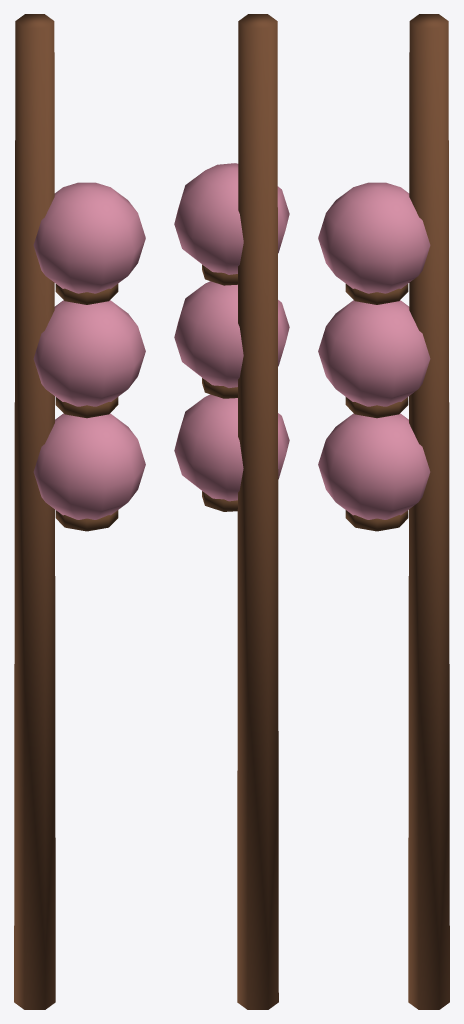
Rendered from lanterns.glb.
The picture shows the model from 3 angles, left to right: view 1: azimuth 90°, elevation 25°; view 2: azimuth 210°, elevation 25°; view 3: azimuth 270°, elevation 25°; orthographic projection.
Parts seen in each view (by area): view 1: lanterns, lanterns_glow; view 2: lanterns, lanterns_glow; view 3: lanterns, lanterns_glow.
Boxes of the visible parts, bbox=[...] form: lanterns: bbox=[14, 14, 118, 1009]; lanterns_glow: bbox=[33, 182, 145, 519]; lanterns: bbox=[202, 14, 278, 1009]; lanterns_glow: bbox=[174, 163, 289, 501]; lanterns: bbox=[345, 14, 449, 1009]; lanterns_glow: bbox=[318, 182, 430, 519].
Bounding box in the file's own units: 0.3234 × 3.12 × 0.38.
